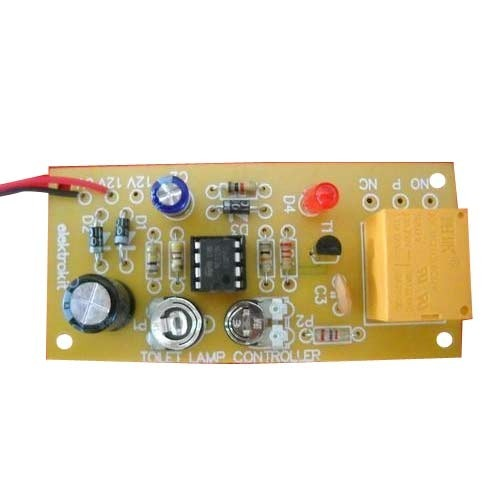capacitor: (62, 274, 136, 333), (151, 176, 191, 215)
resistor: (259, 238, 274, 274), (314, 328, 351, 342), (280, 237, 295, 271), (170, 239, 184, 275), (146, 241, 160, 276), (228, 180, 258, 195)
